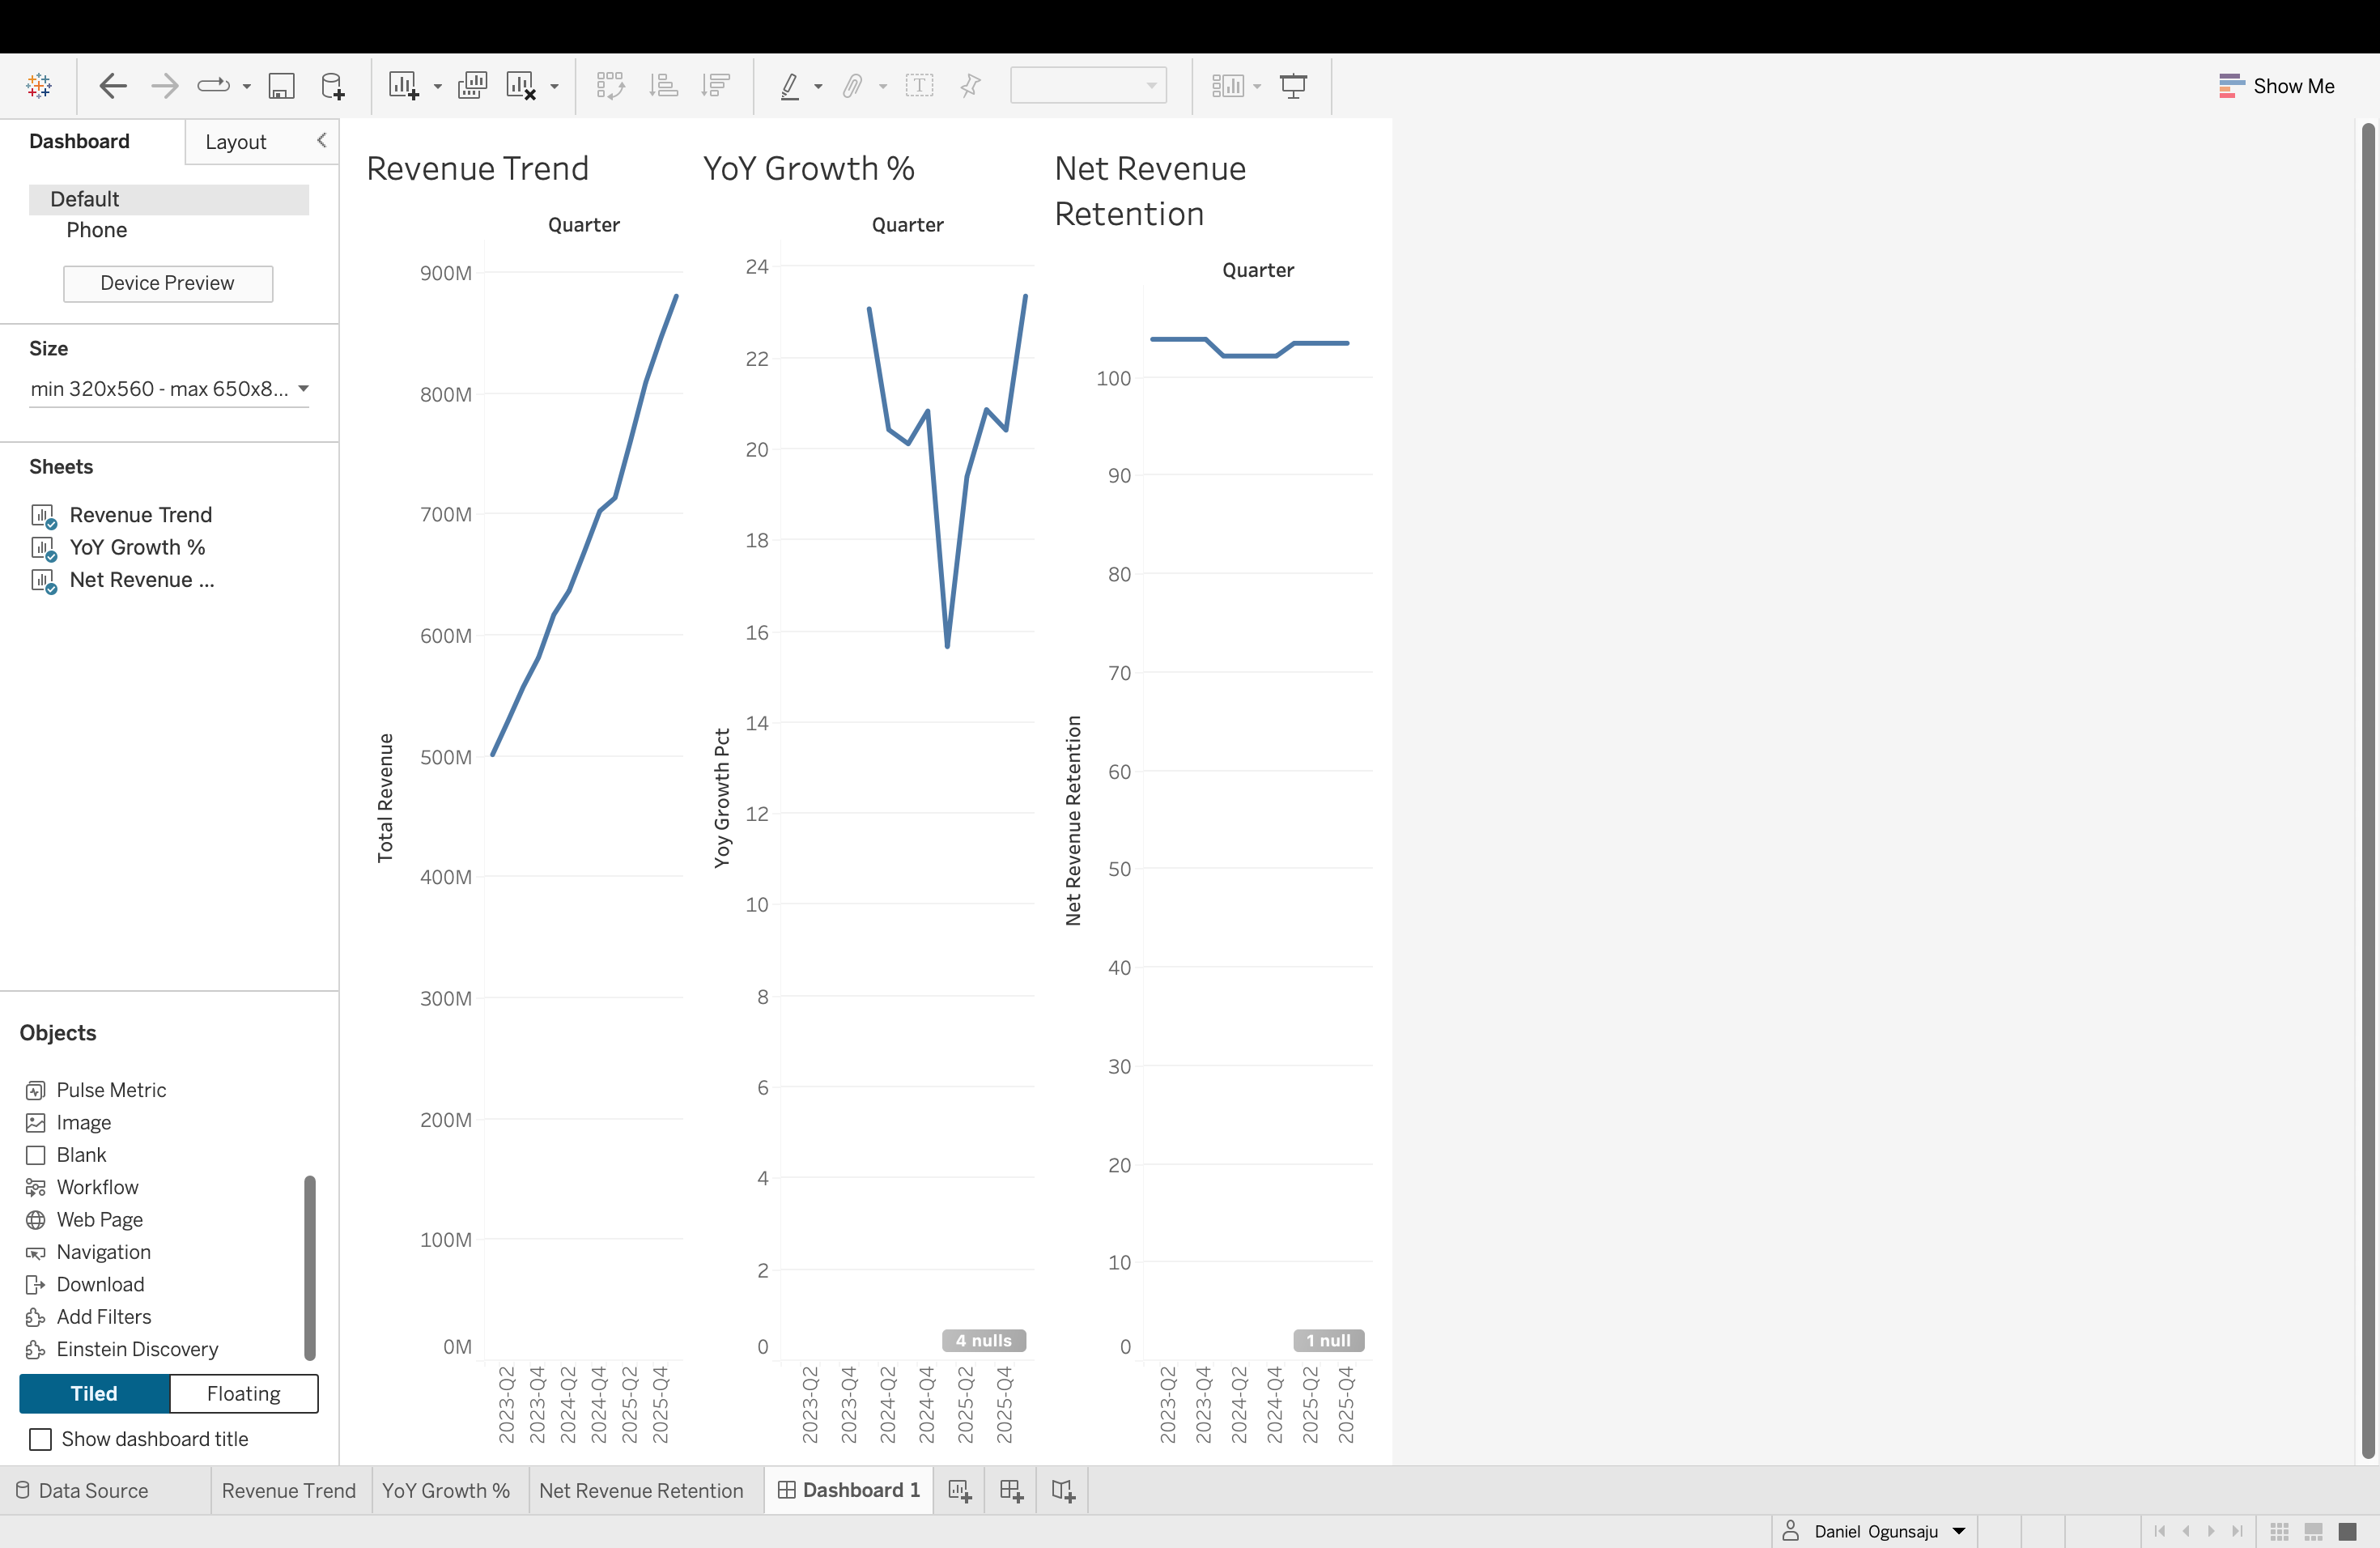

Layout of this report page (visuals, bound fields, positions):
{"tool":"tableau","page":{"name":"Dashboard 1","canvas":[1000,1000],"units":"permille","ordinal":0},"visuals":[{"type":"worksheet","title":"Revenue Trend","mark":"Line","rows":["total_revenue"],"cols":["quarter"],"box":[15.8,11.1,317.6,977.9]},{"type":"worksheet","title":"YoY Growth %","mark":"Line","rows":["yoy_growth_pct"],"cols":["quarter"],"box":[333.4,11.1,331.4,977.9]},{"type":"worksheet","title":"Net Revenue Retention","mark":"Line","rows":["net_revenue_retention"],"cols":["quarter"],"box":[664.9,11.1,319.3,977.9]}]}

Visuals, with their boxes on the dashboard's canvas, which has no fixed pixel size, in thousandths of its width and height (x1, y1, x2, y2). These are canvas units, not pixel positions in the 2380x1548 screenshot, which may show the page scaled, cropped or inside an application window:
"Revenue Trend" worksheet (Line marks): BBox(16, 11, 333, 989)
"YoY Growth %" worksheet (Line marks): BBox(333, 11, 665, 989)
"Net Revenue Retention" worksheet (Line marks): BBox(665, 11, 984, 989)
